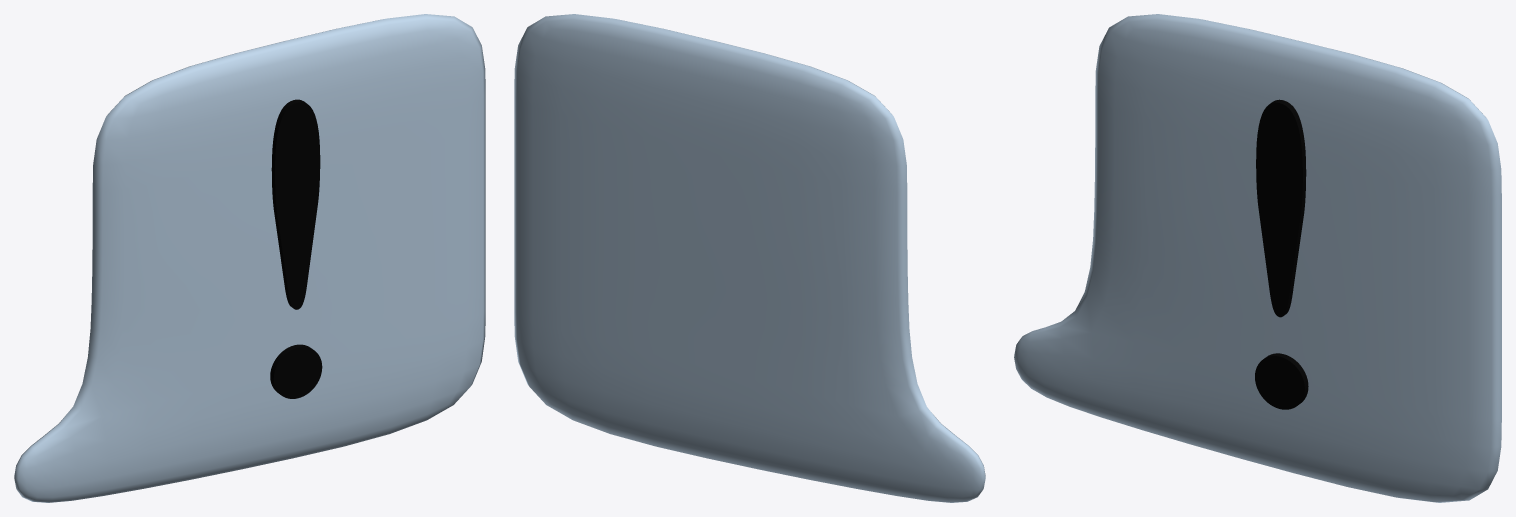
The model's file is fosh1.fbx.
The picture shows the model from 3 angles, left to right: view 1: azimuth 30°, elevation 25°; view 2: azimuth 150°, elevation 25°; view 3: azimuth 330°, elevation 25°; orthographic projection. The views are drawn at different scales.
Visible parts, largest first — view 1: Cube, Text; view 2: Cube; view 3: Cube, Text.
Boxes of the visible parts, <box> form: Cube: <box>14,14,485,502</box>; Text: <box>270,99,322,398</box>; Cube: <box>514,14,985,502</box>; Cube: <box>1014,14,1501,502</box>; Text: <box>1255,99,1308,409</box>.
Bounding box in the file's own units: 125 × 106 × 10.83.
